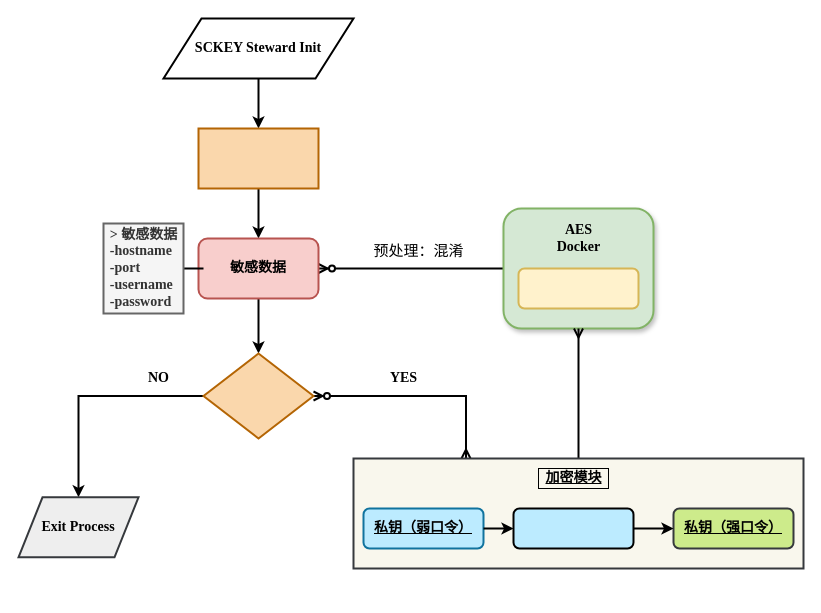
Image size: 821x613. Some labels were removed from this diagram. The centre of each missing label's shape, as x and y in pixels:
_Cipher.v2raycs: (578,288)
加密缓存: (258,395)
弱口令填充: (573,528)
接收用户输入: (258,158)
